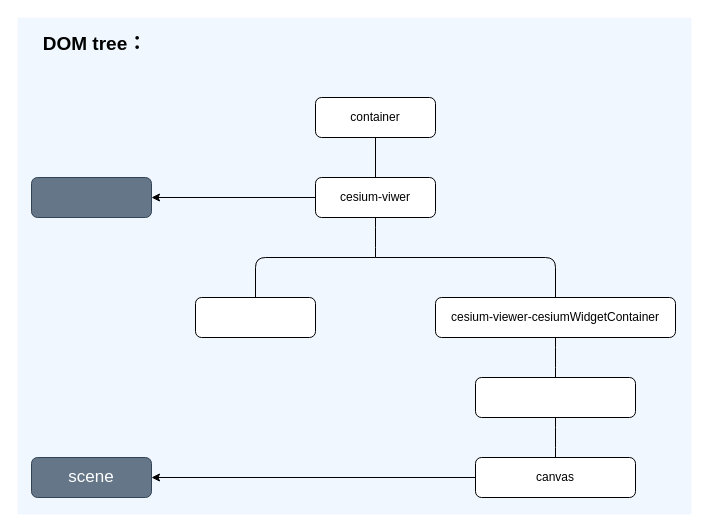
Image size: 708x531. Some labels were removed from this diagram. Here are the shapes that lost their labels. From the top down, the box of each, then its label:
(30, 176, 152, 218): vierwer
(194, 296, 316, 338): cesium-viewer-button
(474, 376, 636, 418): cesium-widget
